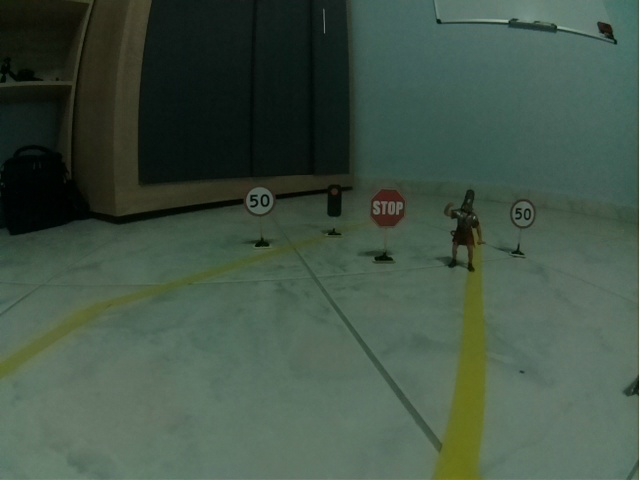Person: (443, 188, 487, 272)
Red Traffic Light: (327, 184, 342, 218)
Speed Limit 50: (244, 185, 276, 217), (510, 197, 536, 229)
Stop: (370, 186, 406, 229)
